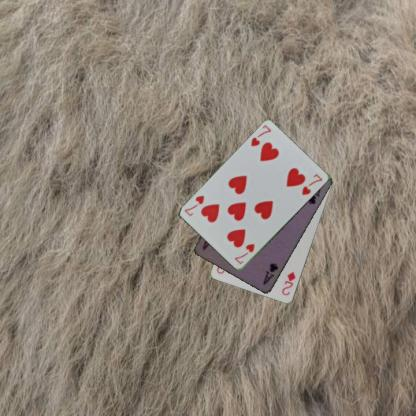2d: (279, 269, 297, 297)
7h: (232, 241, 256, 266), (249, 122, 272, 148)
Ac: (260, 260, 280, 286)
